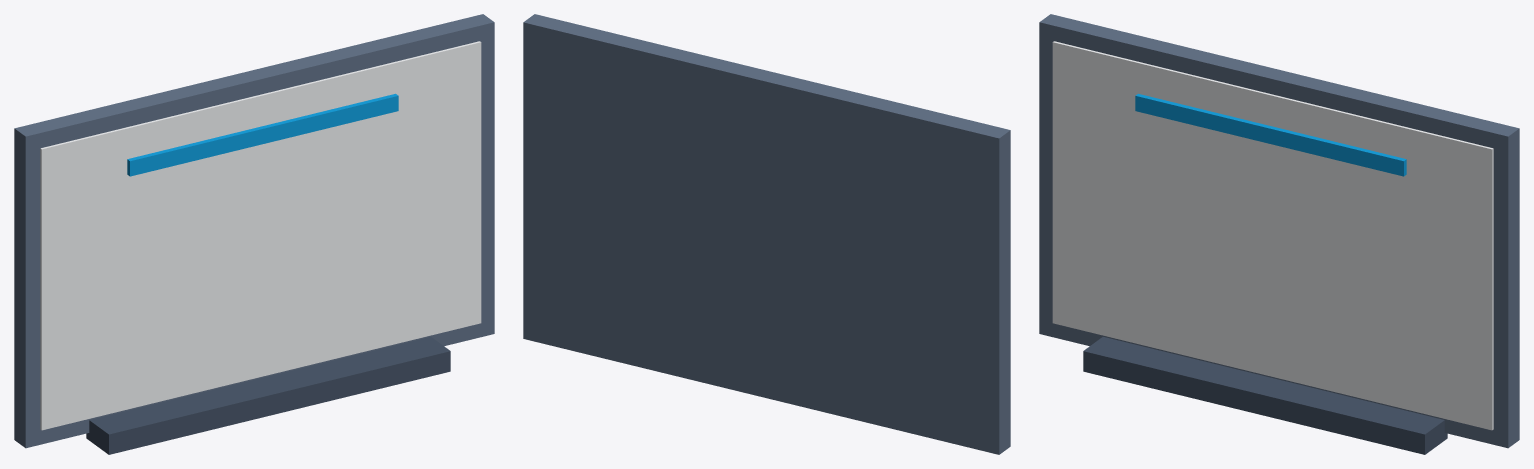
Rendered from parametric-source.glb.
3 views of the same model, side by side, from view 1: azimuth 30°, elevation 25°; view 2: azimuth 150°, elevation 25°; view 3: azimuth 330°, elevation 25° (orthographic).
Parts seen in each view (by area): view 1: openclinxr.equipment.safety_plan_whiteboard_equipment.board, openclinxr.equipment.safety_plan_whiteboard_equipment.frame, openclinxr.equipment.safety_plan_whiteboard_equipment.marker, openclinxr.equipment.safety_plan_whiteboard_equipment.header; view 2: openclinxr.equipment.safety_plan_whiteboard_equipment.frame; view 3: openclinxr.equipment.safety_plan_whiteboard_equipment.board, openclinxr.equipment.safety_plan_whiteboard_equipment.frame, openclinxr.equipment.safety_plan_whiteboard_equipment.marker, openclinxr.equipment.safety_plan_whiteboard_equipment.header.
Part boxes in pixels (<box>): openclinxr.equipment.safety_plan_whiteboard_equipment.board: <box>40,41,481,430</box>; openclinxr.equipment.safety_plan_whiteboard_equipment.frame: <box>14,14,494,448</box>; openclinxr.equipment.safety_plan_whiteboard_equipment.marker: <box>86,337,450,454</box>; openclinxr.equipment.safety_plan_whiteboard_equipment.header: <box>127,93,398,176</box>; openclinxr.equipment.safety_plan_whiteboard_equipment.frame: <box>523,14,1010,454</box>; openclinxr.equipment.safety_plan_whiteboard_equipment.board: <box>1052,41,1493,430</box>; openclinxr.equipment.safety_plan_whiteboard_equipment.frame: <box>1039,14,1519,448</box>; openclinxr.equipment.safety_plan_whiteboard_equipment.marker: <box>1083,337,1447,454</box>; openclinxr.equipment.safety_plan_whiteboard_equipment.header: <box>1135,93,1406,176</box>.
Bounding box in the file's own units: 0.96 × 0.625 × 0.11.
